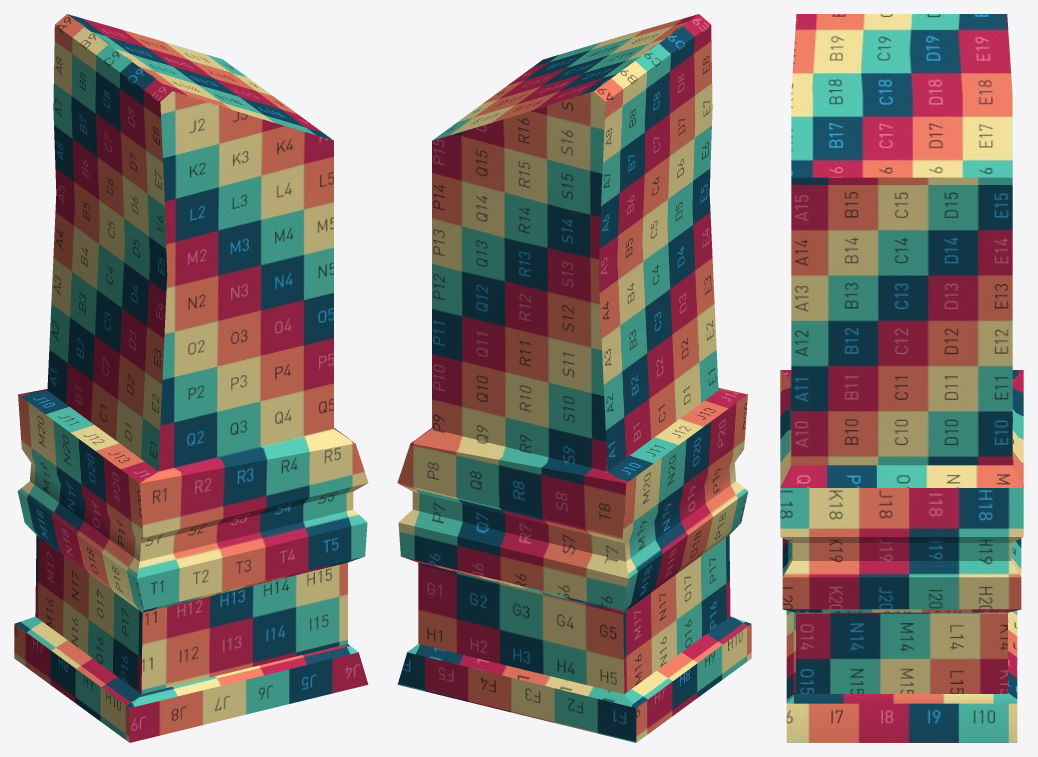
The model's file is Piliier_02_low.FBX.
3 renders of one model, left to right at view 1: azimuth 30°, elevation 25°; view 2: azimuth 150°, elevation 25°; view 3: azimuth 270°, elevation 25°, orthographic.
Parts seen in each view (by area): view 1: Pilier_002; view 2: Pilier_002; view 3: Pilier_002.
Part boxes in pixels (bbox=[...]): Pilier_002: bbox=[14, 14, 368, 742]; Pilier_002: bbox=[397, 14, 751, 742]; Pilier_002: bbox=[780, 14, 1023, 742].
Bounding box in the file's own units: 1.57 × 4 × 1.39.
